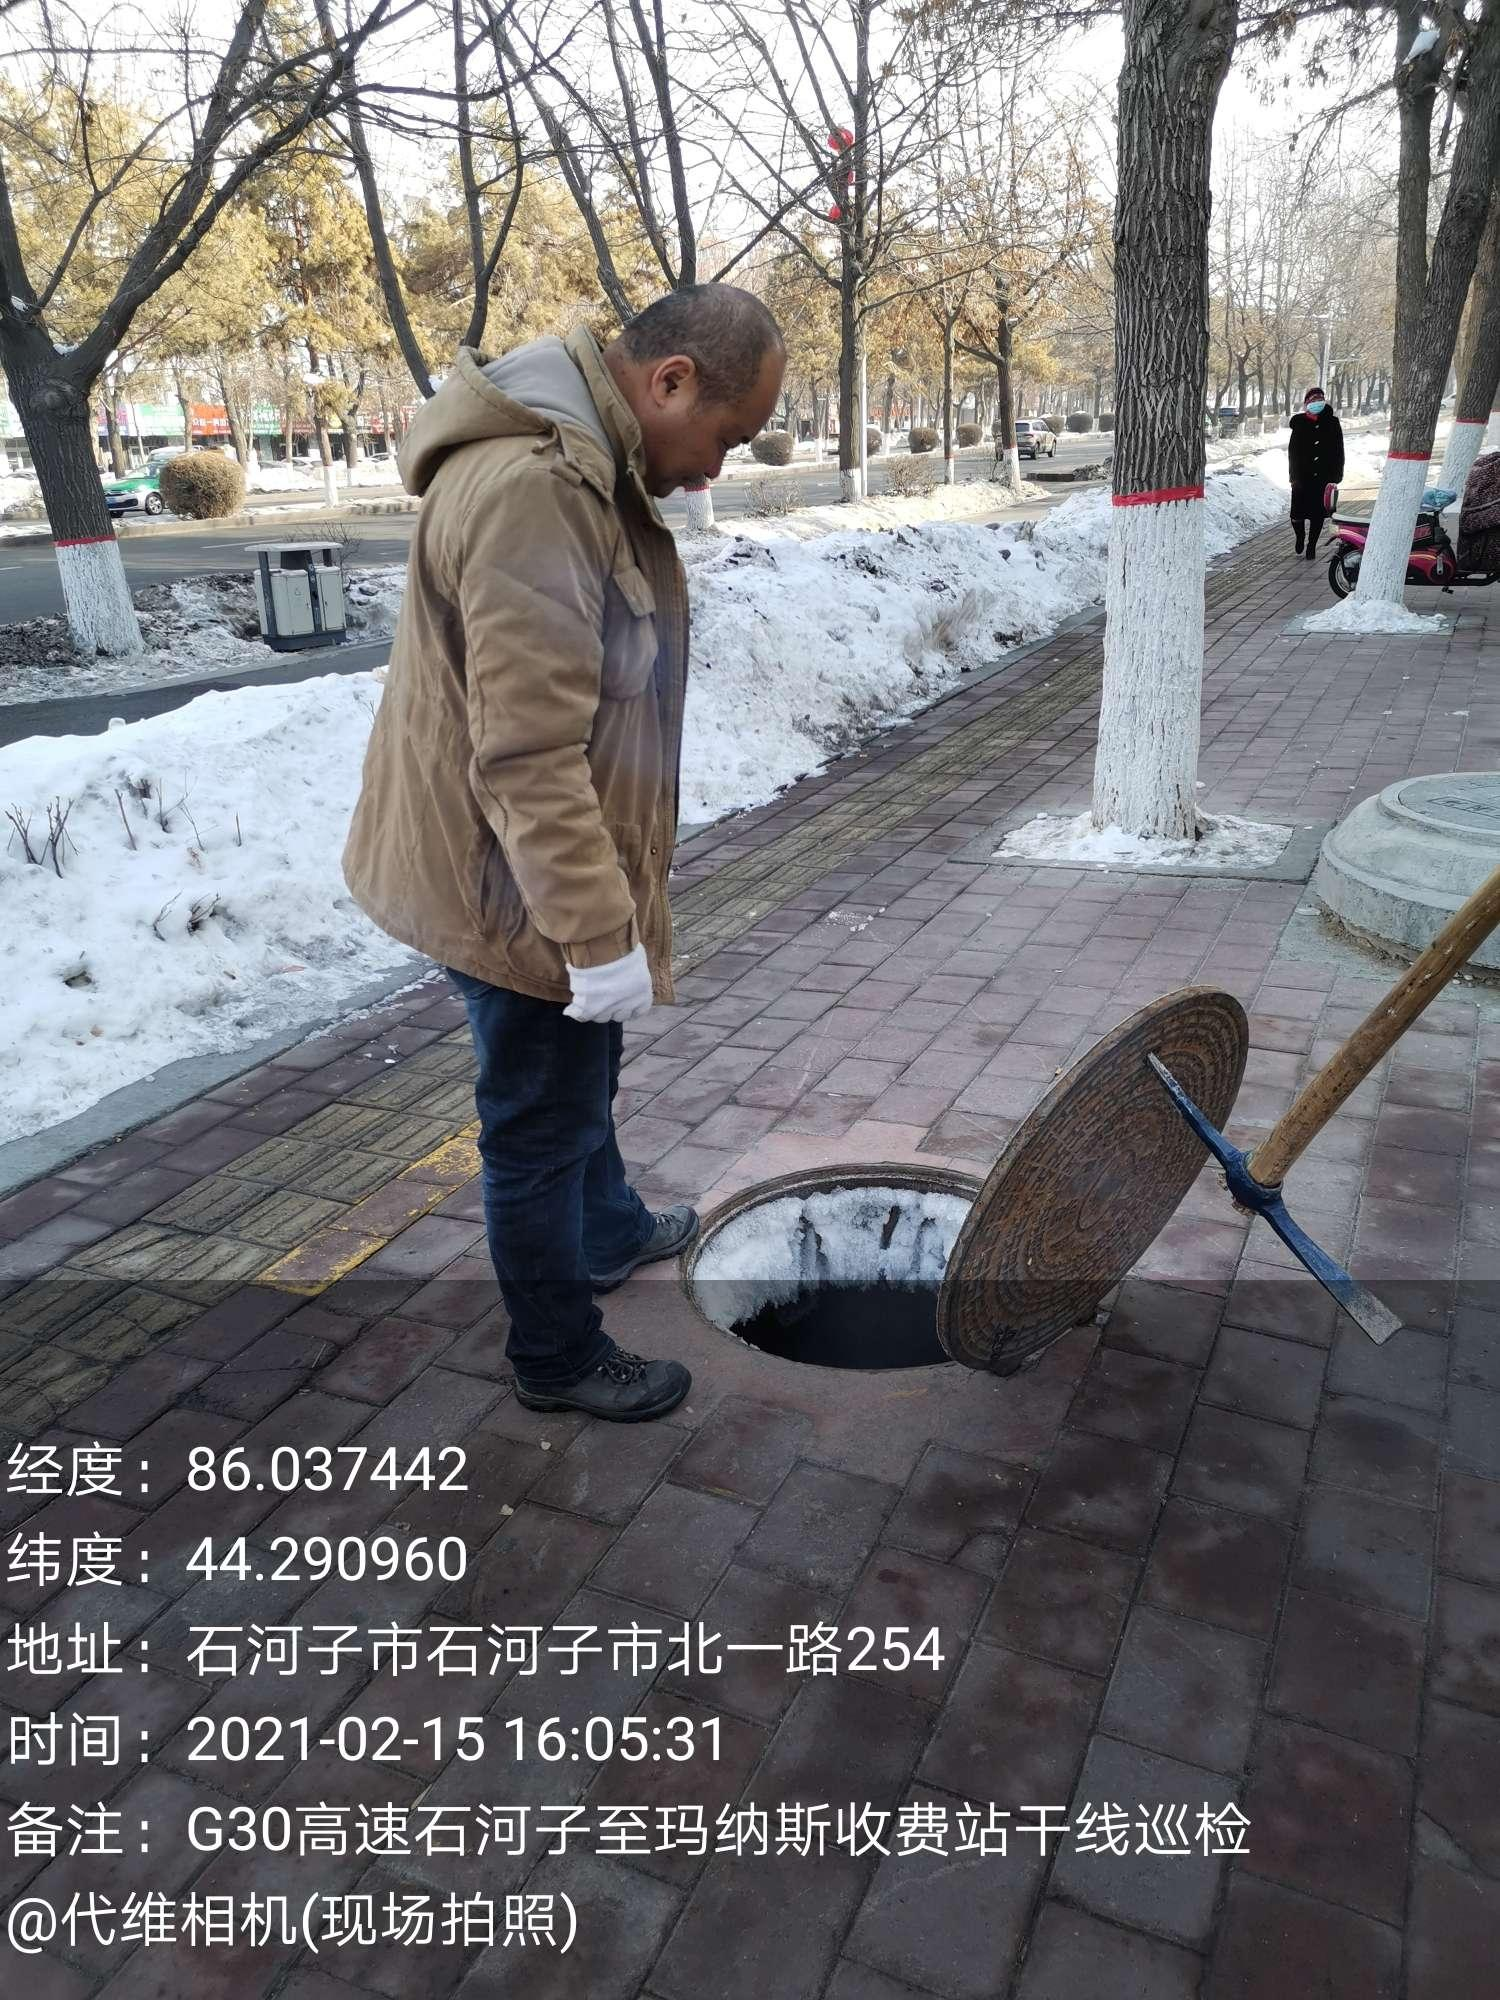wellcover: (671, 945, 1256, 1402)
